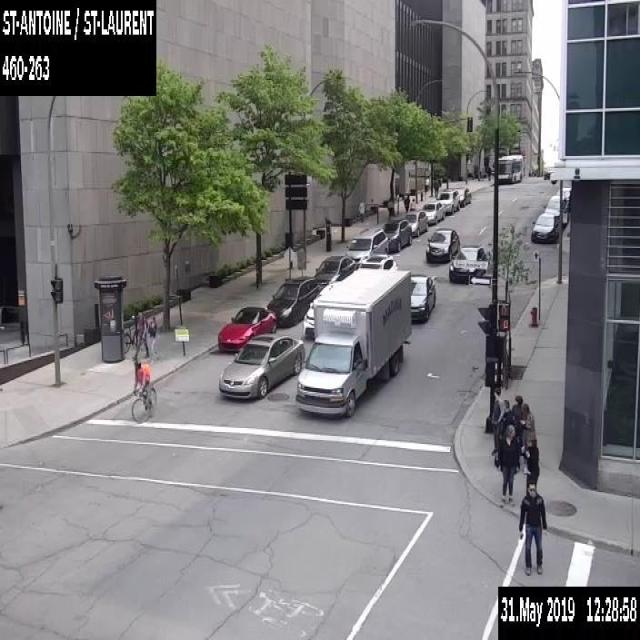bus: (496, 150, 524, 182)
cyclist: (130, 360, 156, 421)
pedestrian: (518, 480, 547, 575), (496, 423, 518, 509), (519, 401, 536, 473), (522, 434, 539, 494), (510, 394, 524, 463), (489, 386, 502, 456), (498, 399, 511, 468), (132, 311, 148, 361), (147, 315, 157, 358), (386, 194, 394, 218), (358, 198, 365, 222), (432, 177, 438, 197), (403, 193, 409, 211), (410, 197, 415, 210)
vehicle: (296, 266, 410, 416), (218, 332, 304, 397), (265, 275, 320, 325), (218, 305, 276, 350), (344, 226, 388, 269), (448, 243, 488, 282), (313, 255, 355, 287), (410, 273, 435, 321), (425, 227, 459, 262), (382, 218, 411, 252), (530, 211, 558, 241), (354, 252, 397, 269), (543, 194, 568, 223), (403, 210, 428, 236), (420, 200, 445, 224), (436, 188, 460, 212), (302, 300, 315, 336), (556, 182, 571, 210), (453, 186, 471, 205)
